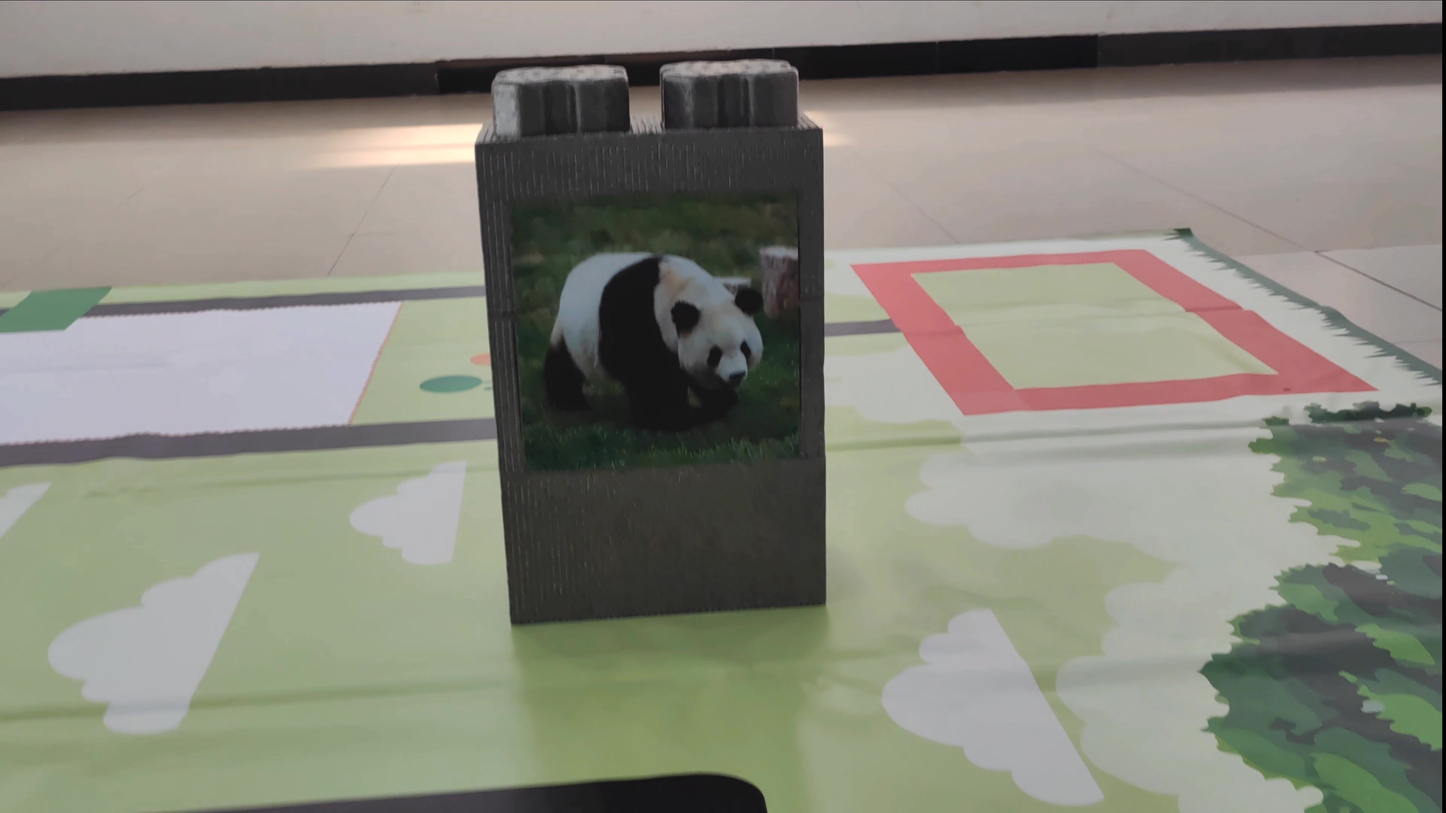panda: (540, 234, 785, 441)
